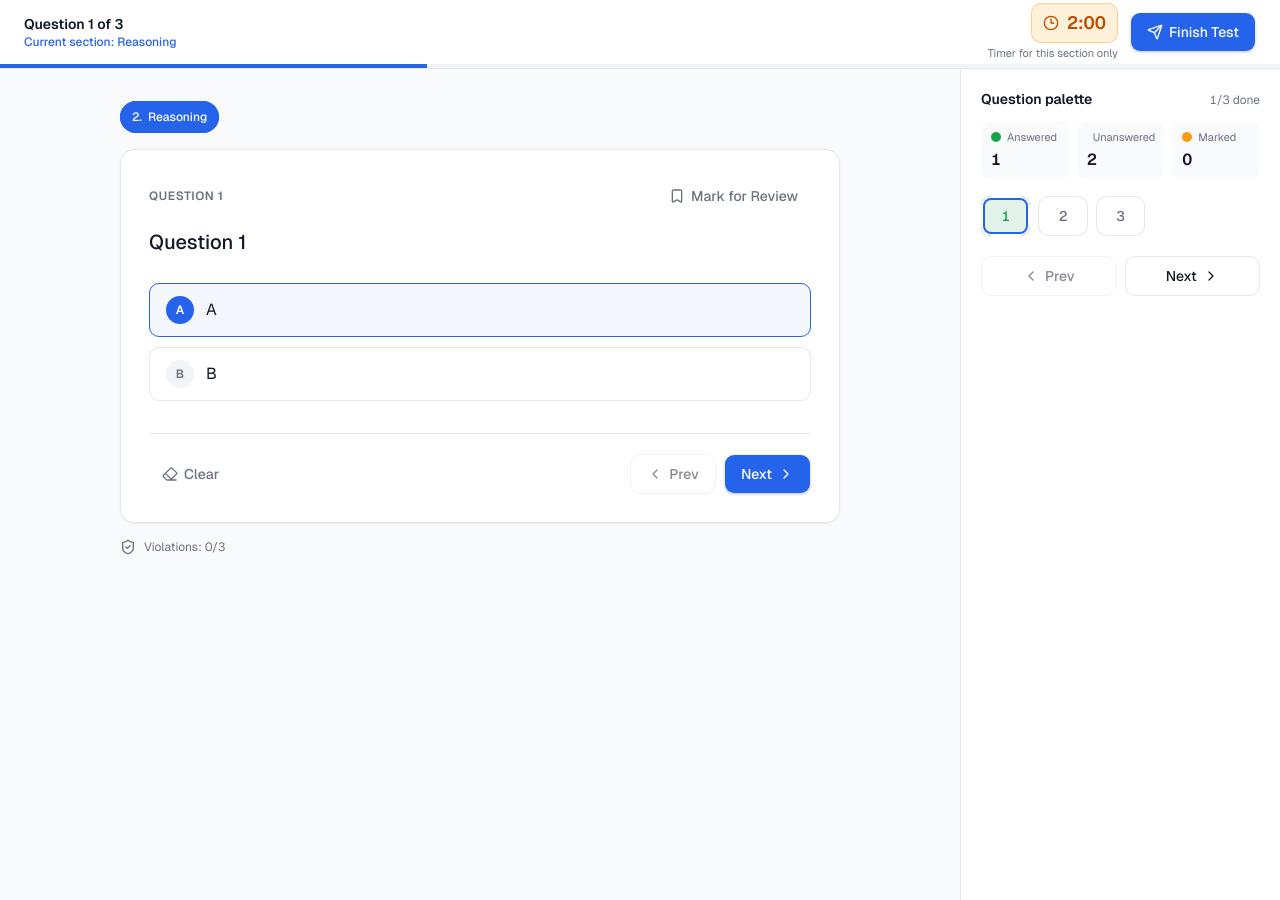
Test: TestEnvironment submit confirmation dialogs › MODULE_TEST: last section confirmation is scoped to the whole test
Click the button "Finish Test": coordinates (1193, 32) [1130, 12, 1256, 52]
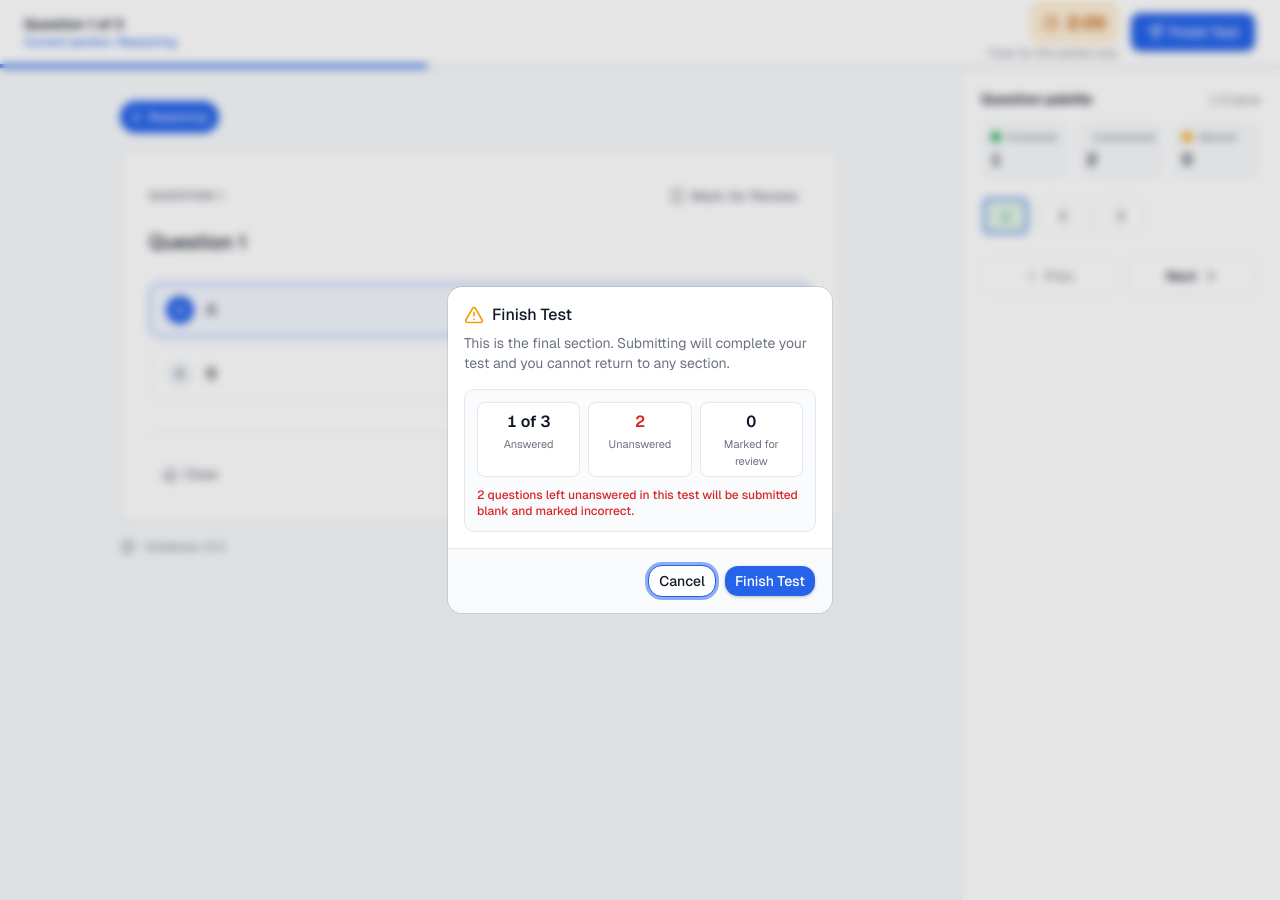
Expected: the text "This is the final section. Submitting will complete your test and you cannot return to any section." is shown, [464, 334, 807, 372]
Expected: the text "2 questions left unanswered in this test will be submitted blank and marked incorrect." is shown, [477, 487, 798, 519]
